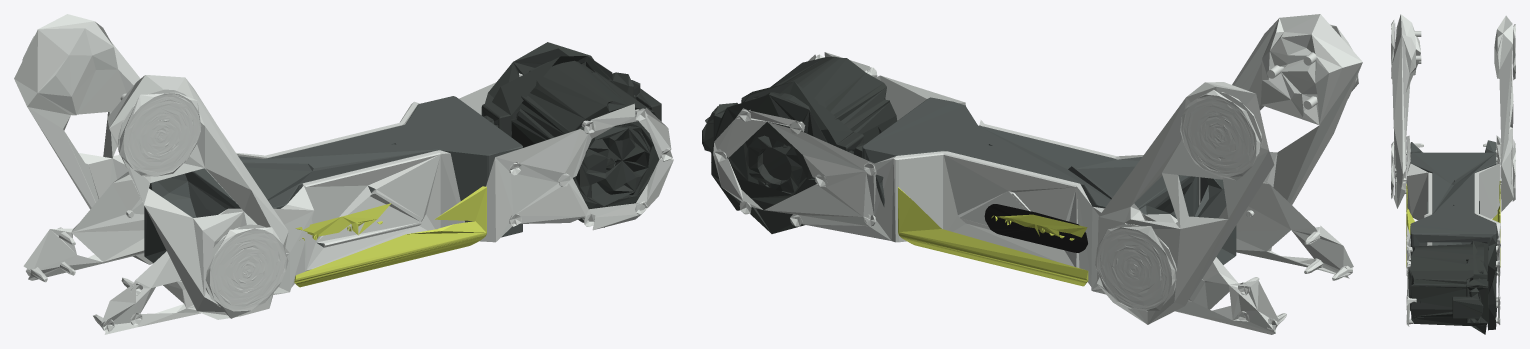
The picture shows the model from 3 angles, left to right: view 1: azimuth 30°, elevation 25°; view 2: azimuth 150°, elevation 25°; view 3: azimuth 270°, elevation 25°; orthographic projection. The views are drawn at different scales.
Parts seen in each view (by area): view 1: cnc3, motor_4, pla3_black_without_seeed_badge, pla3_green, pla3_seeed_badge_with_counters; view 2: cnc3, motor_4, pla3_black_without_seeed_badge, pla3_green, pla3_seeed_wordmark_backing, pla3_seeed_badge_with_counters; view 3: cnc3, motor_4, pla3_black_without_seeed_badge, pla3_green, pla3_seeed_badge_with_counters.
Part boxes in pixels (x1=…): cnc3: x1=14, y1=14, x2=673, y2=334; motor_4: x1=481, y1=42, x2=661, y2=227; pla3_black_without_seeed_badge: x1=144, y1=96, x2=522, y2=262; pla3_green: x1=294, y1=186, x2=486, y2=287; pla3_seeed_badge_with_counters: x1=295, y1=203, x2=391, y2=240; cnc3: x1=713, y1=14, x2=1362, y2=334; motor_4: x1=702, y1=56, x2=897, y2=233; pla3_black_without_seeed_badge: x1=862, y1=97, x2=1236, y2=264; pla3_green: x1=898, y1=187, x2=1088, y2=286; pla3_seeed_wordmark_backing: x1=984, y1=204, x2=1087, y2=252; pla3_seeed_badge_with_counters: x1=991, y1=214, x2=1087, y2=240; cnc3: x1=1391, y1=14, x2=1515, y2=326; motor_4: x1=1408, y1=237, x2=1497, y2=334; pla3_black_without_seeed_badge: x1=1410, y1=140, x2=1500, y2=259; pla3_green: x1=1406, y1=206, x2=1500, y2=267; pla3_seeed_badge_with_counters: x1=1406, y1=180, x2=1500, y2=215.
Bounding box in the file's own units: 0.2928 × 0.1351 × 0.0866.
